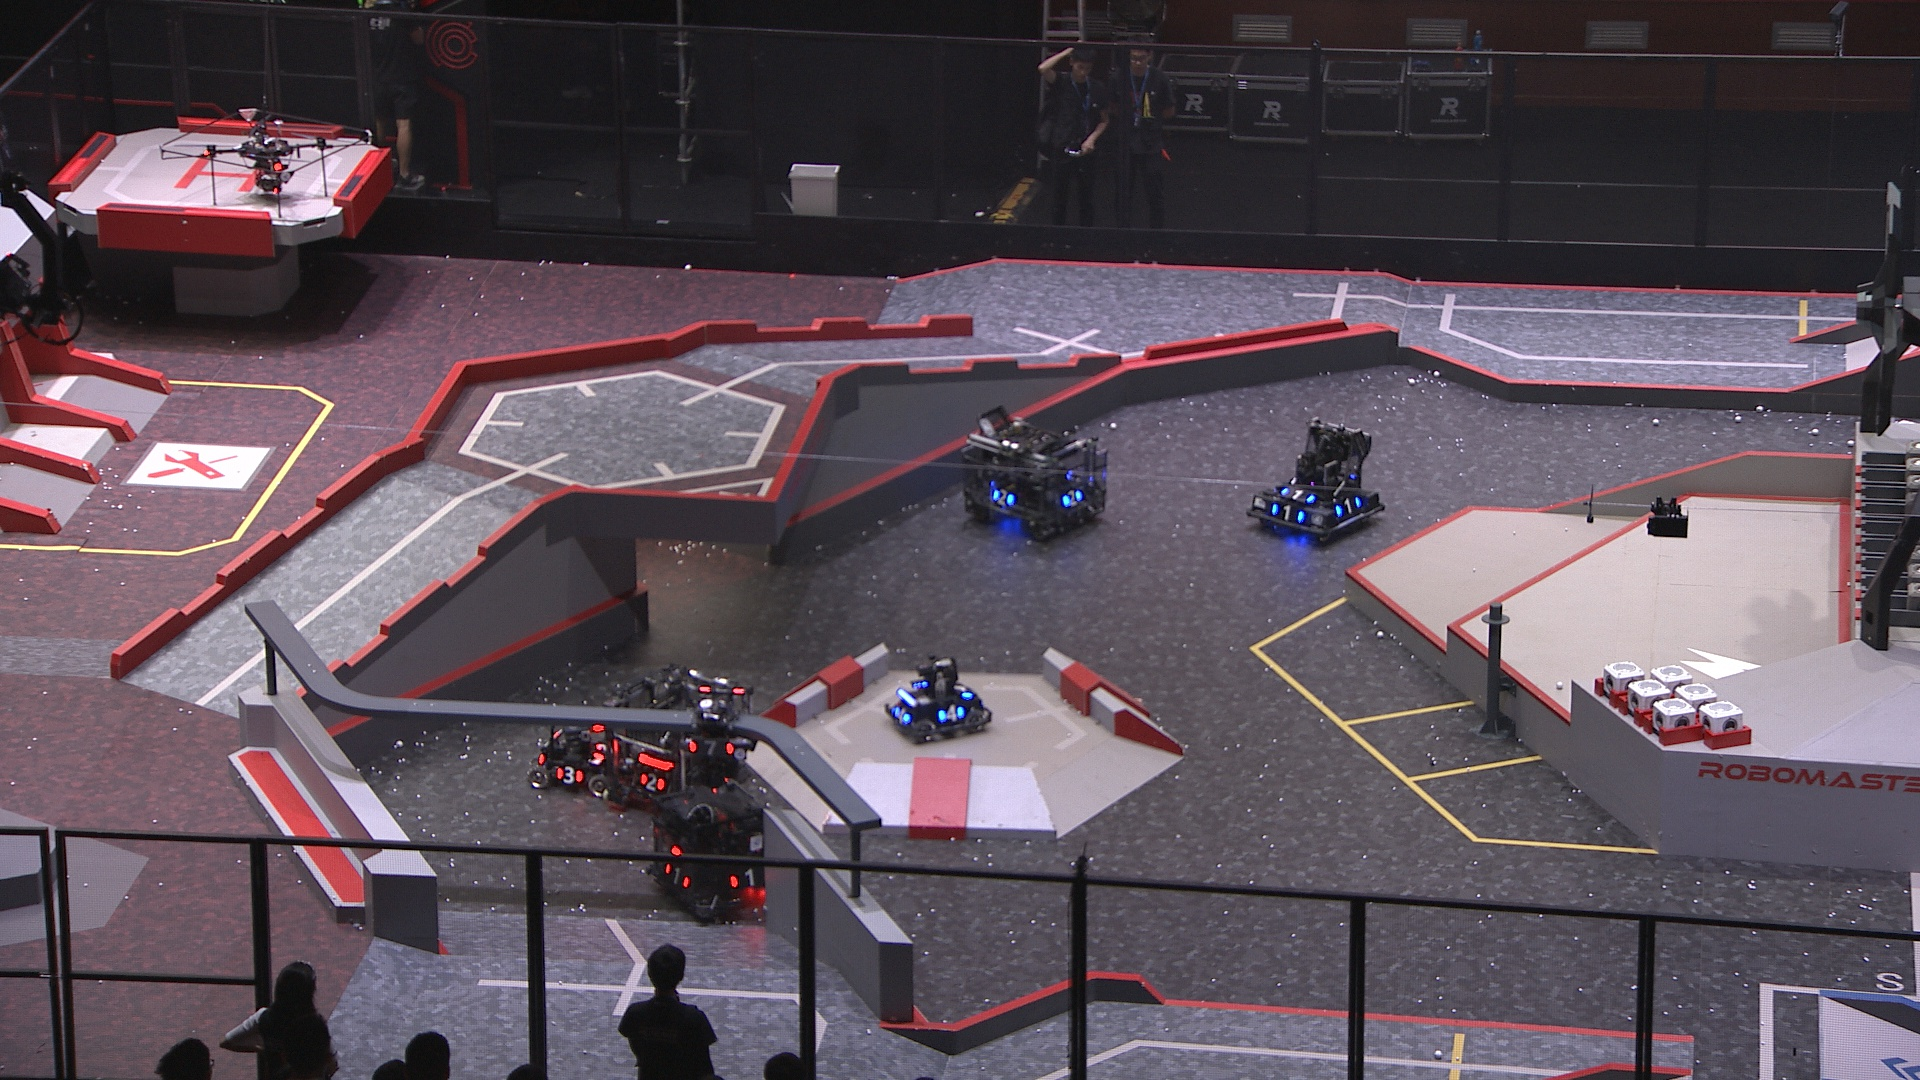armor: (683, 737, 735, 760), (1269, 500, 1307, 526), (728, 868, 766, 891), (662, 862, 692, 891), (1278, 485, 1317, 505), (1329, 493, 1361, 517), (553, 764, 584, 785), (940, 702, 967, 725), (637, 771, 666, 793), (1058, 488, 1084, 509), (891, 703, 913, 728), (951, 683, 975, 702), (992, 488, 1013, 508)
car: (591, 661, 745, 818), (959, 404, 1110, 549), (1244, 418, 1391, 541), (644, 779, 773, 918), (884, 654, 994, 744), (527, 713, 638, 802)
watcher: (676, 684, 760, 781)
